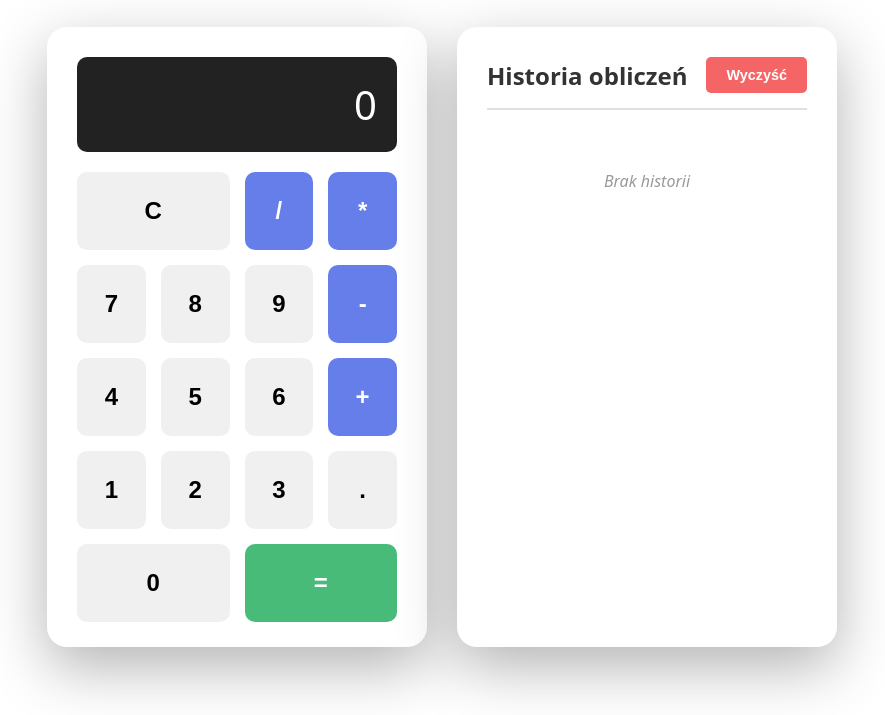
it: Calculator App › displays multiple digits
The width and height of the screenshot is (885, 715).
Click the button "1" at (111, 490), box 77,451 -> 146,529
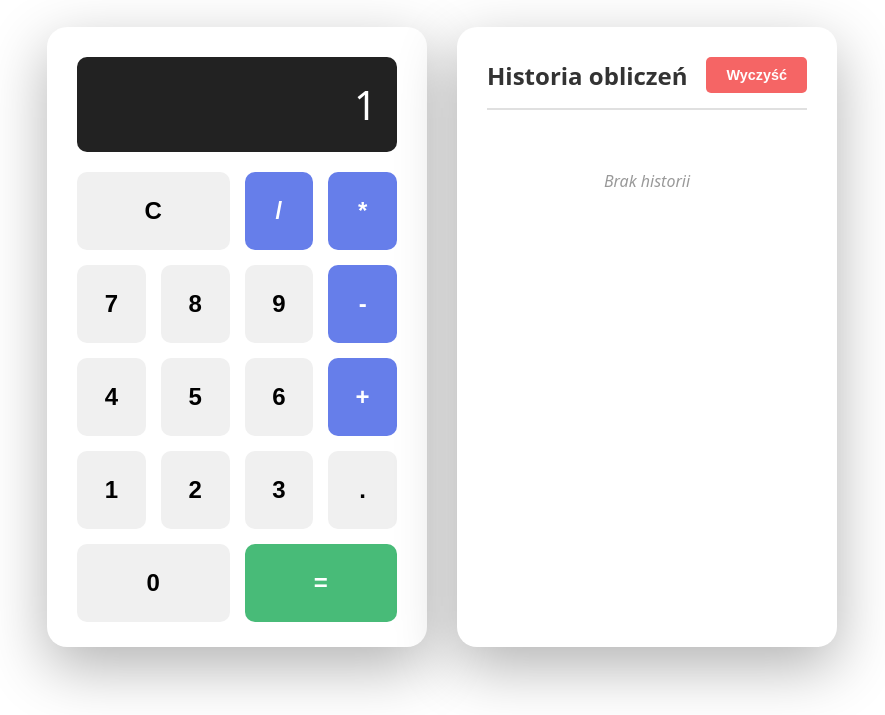
Click the button "2" at (195, 490), box 161,451 -> 230,529
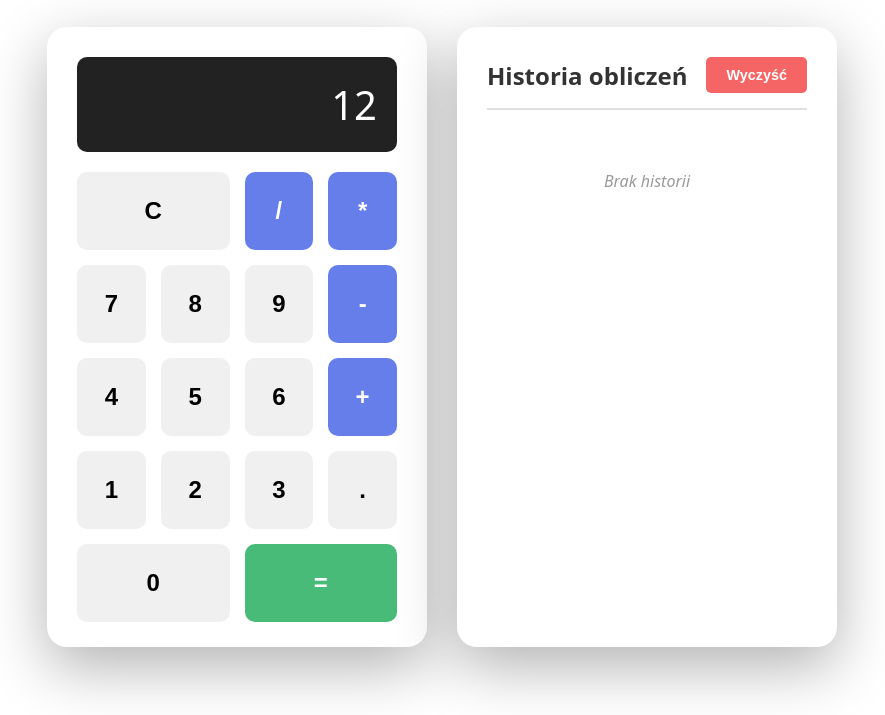
Click the button "3" at (279, 490), box 244,451 -> 313,529
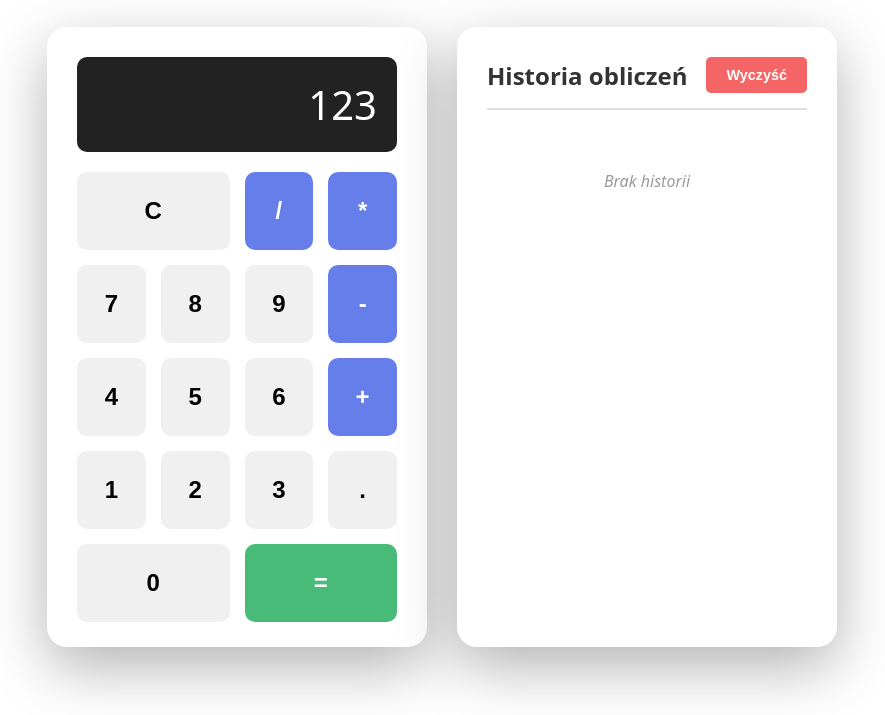
Expected: the text with class "display" reads "123", 308,77 -> 377,132
